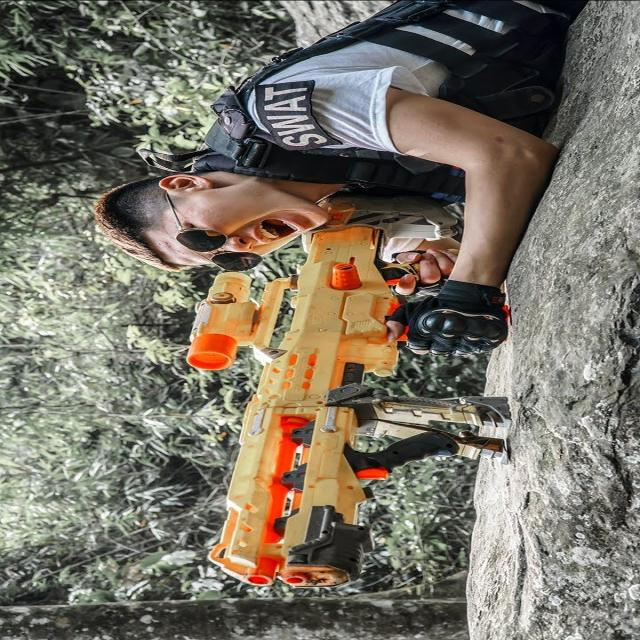Nerf gun: (176, 214, 519, 586)
